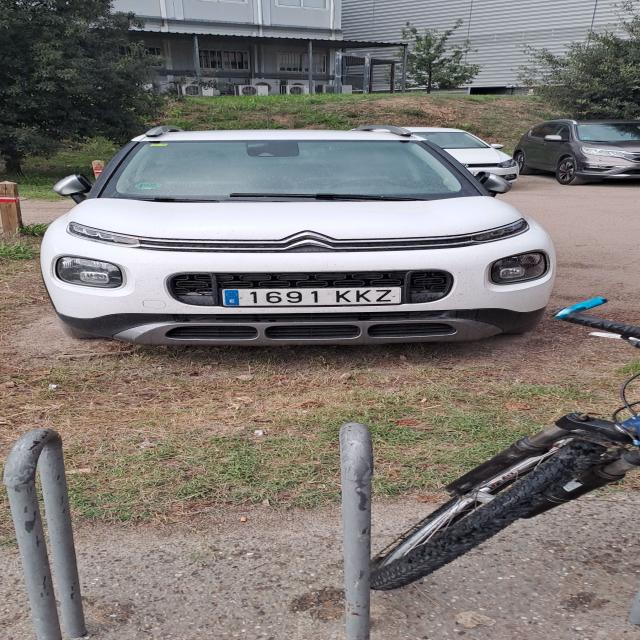license_plate-34Td: (222, 287, 401, 307)
